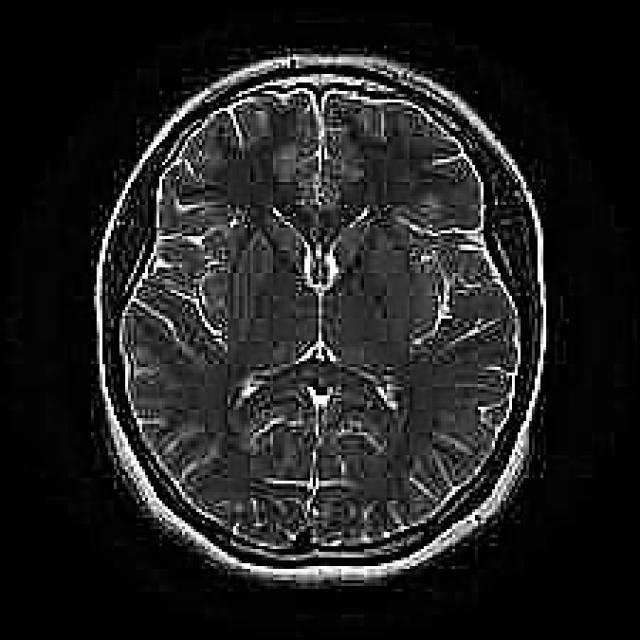notumor: (97, 51, 540, 580)
